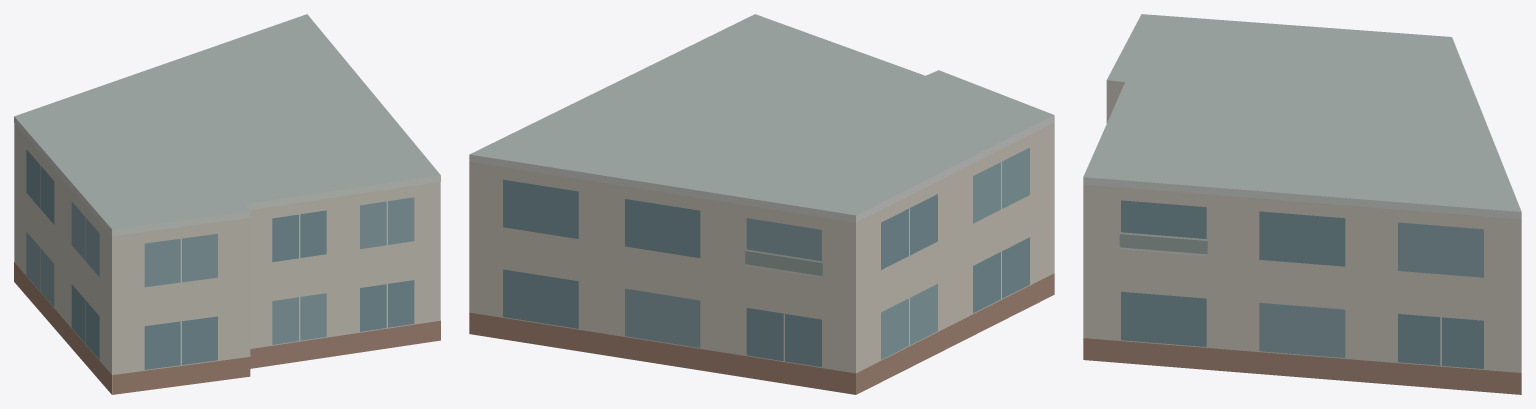
The model's file is survey-upis-32712825.glb.
3 views of the same model, side by side, from view 1: azimuth 30°, elevation 25°; view 2: azimuth 150°, elevation 25°; view 3: azimuth 270°, elevation 25° (orthographic). The views are drawn at different scales.
Parts seen in each view (by area): view 1: survey-upis-32712825.tmp; view 2: survey-upis-32712825.tmp; view 3: survey-upis-32712825.tmp.
Part boxes in pixels (x1,y1,x2,y2): survey-upis-32712825.tmp: (14, 14, 440, 394); survey-upis-32712825.tmp: (469, 14, 1054, 394); survey-upis-32712825.tmp: (1083, 14, 1521, 394).
Size of the model in its own units: 14.18 by 6.1 by 13.28.
